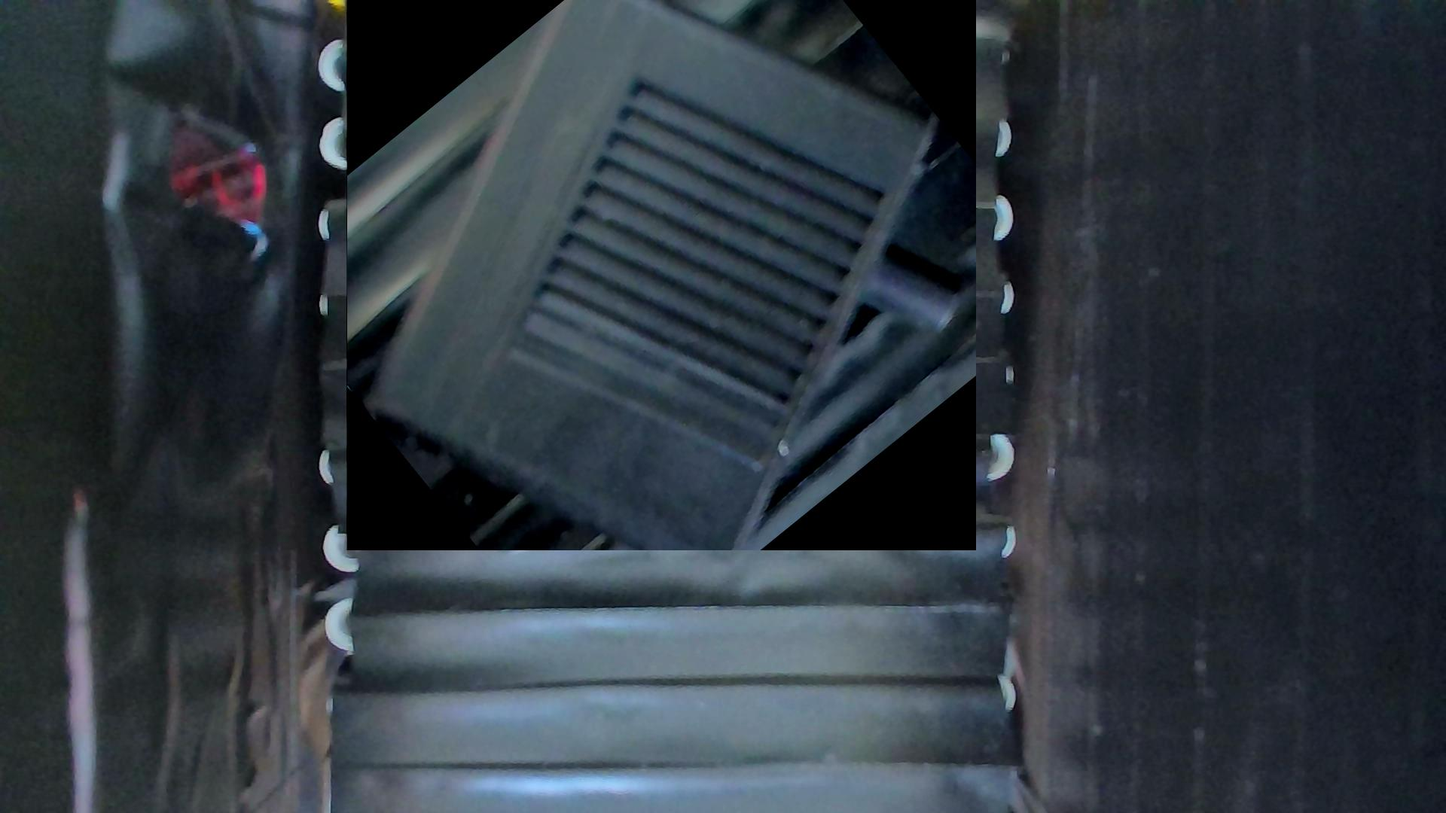motor: (346, 0, 976, 550)
